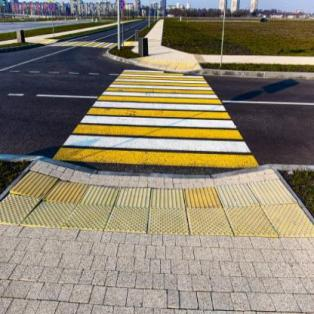Podoctatil: (2, 168, 313, 232)
